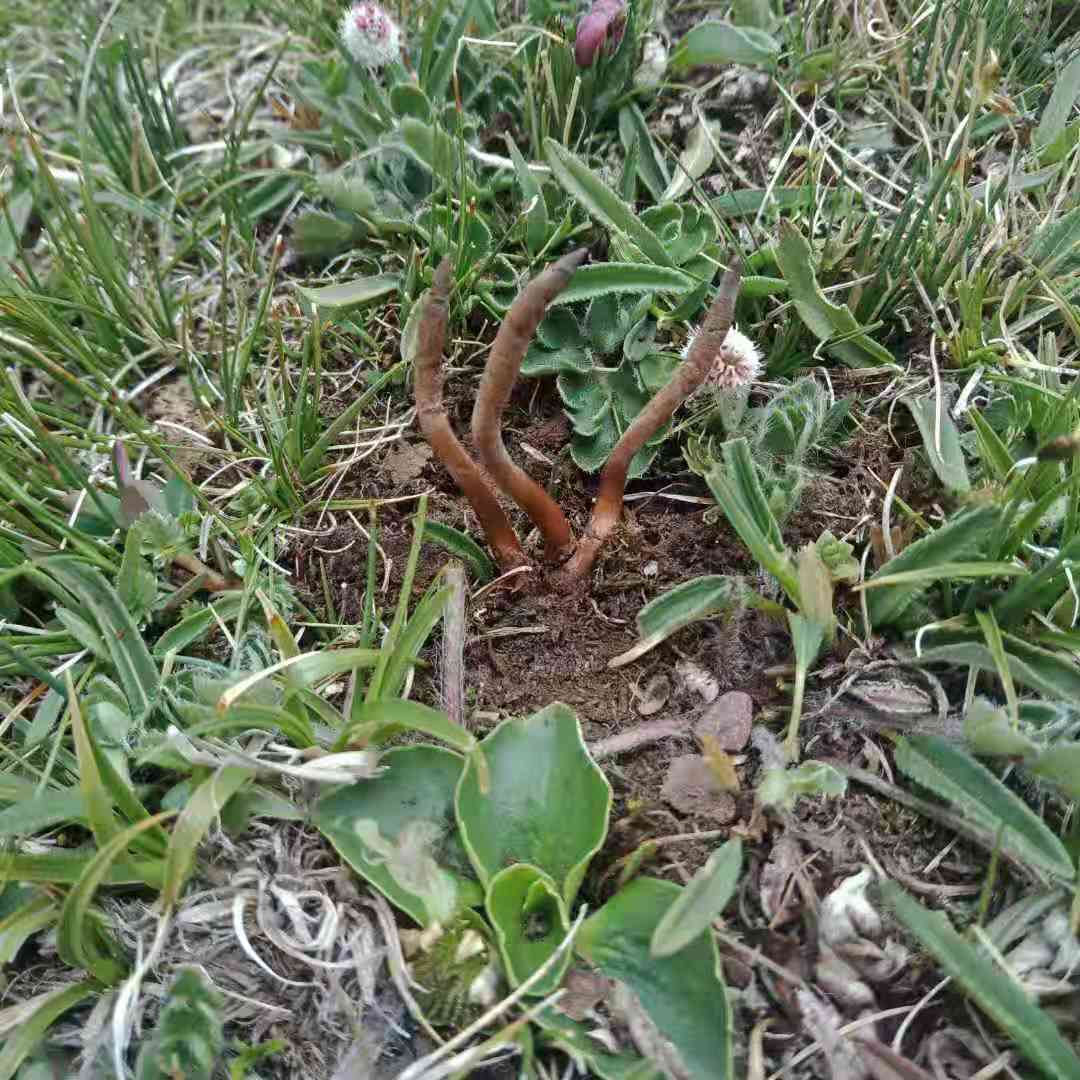Chongcao: (588, 255, 744, 547), (471, 246, 586, 553), (416, 252, 524, 569)
